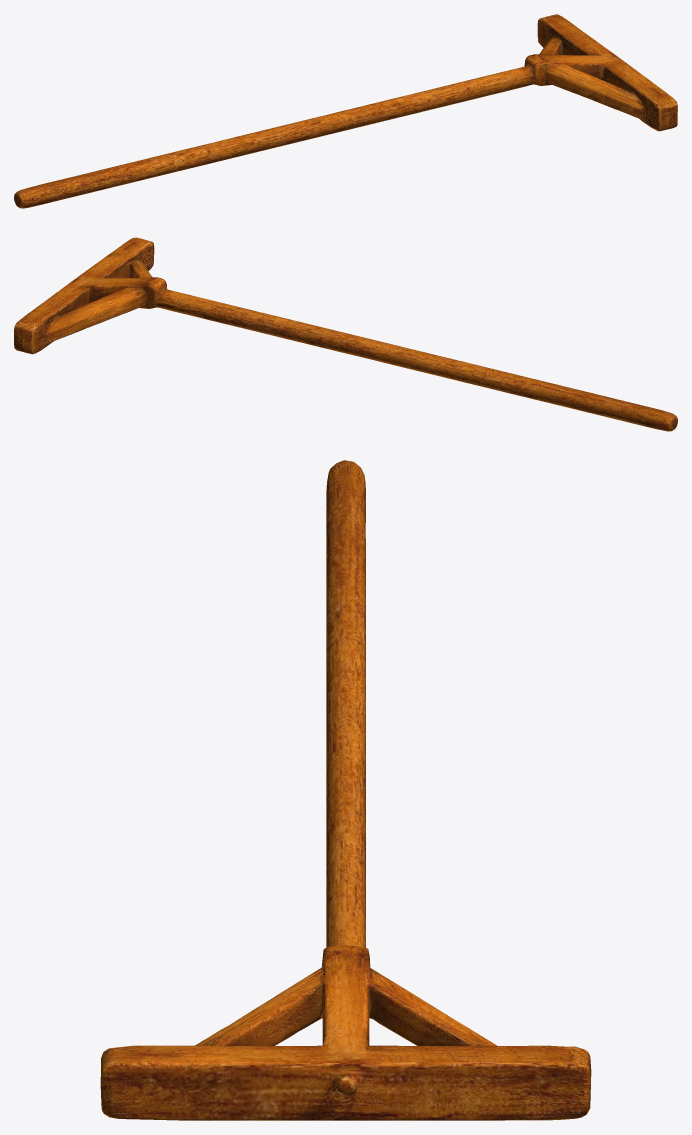
Rendered from rustic-wooden-rake.glb.
3 views of the same model, one above another, from view 1: azimuth 30°, elevation 25°; view 2: azimuth 150°, elevation 25°; view 3: azimuth 270°, elevation 25° (orthographic). The views are drawn at different scales.
Size of the model in its own units: 1.91 by 0.1425 by 0.6689.
Materials: 1 (1 with a texture image).
